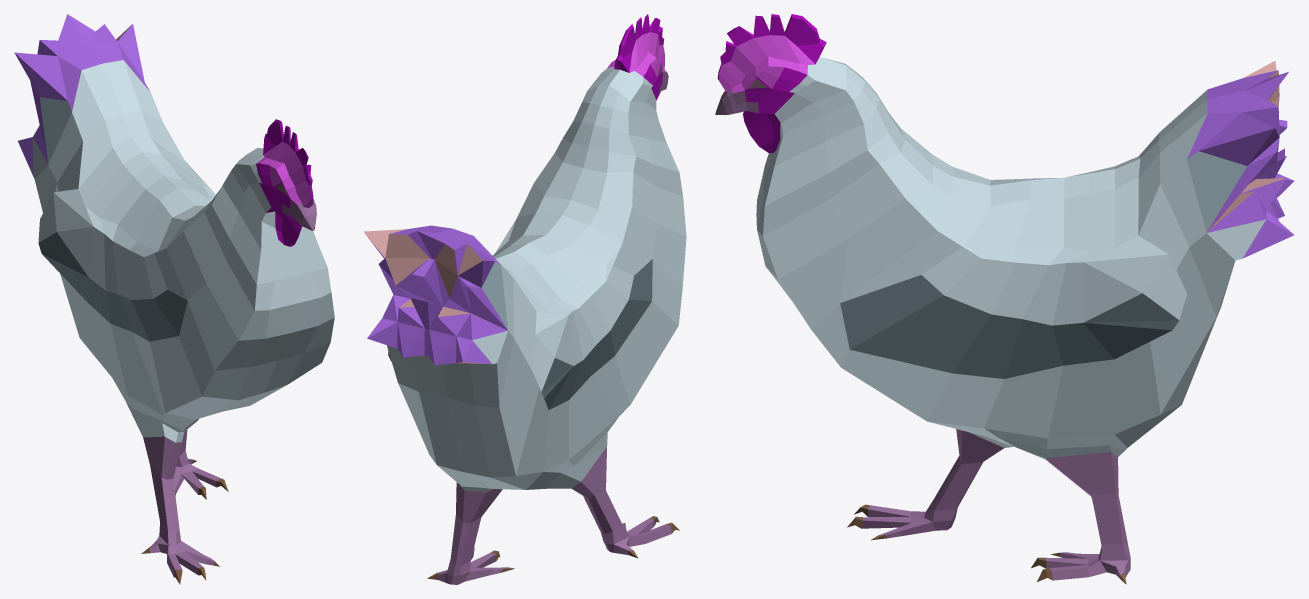
Rendered from Low_Poly_Chicken.glb.
The picture shows the model from 3 angles, left to right: view 1: azimuth 30°, elevation 25°; view 2: azimuth 150°, elevation 25°; view 3: azimuth 270°, elevation 25°; orthographic projection. The views are drawn at different scales.
Parts seen in each view (by area): view 1: unnamed; view 2: unnamed; view 3: unnamed.
Boxes of the visible parts, x1,y1,x2,y2 form: unnamed: (14, 14, 334, 584); unnamed: (363, 14, 686, 584); unnamed: (715, 14, 1294, 584).
Size of the model in its own units: 1.3 by 3.81 by 3.68.
1 material, 1 textured.
